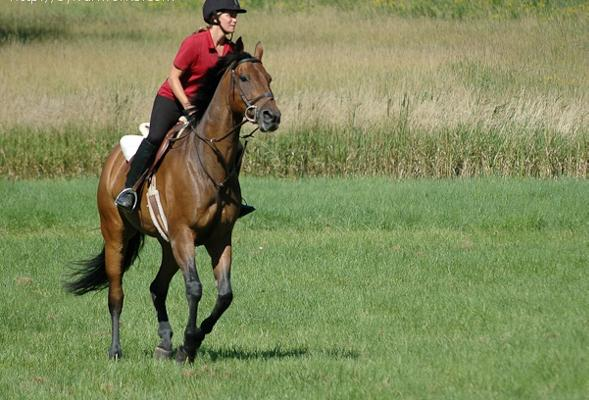person: (118, 2, 255, 219)
